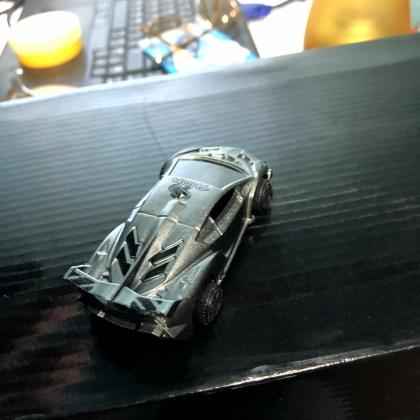Car: (58, 137, 278, 344)
